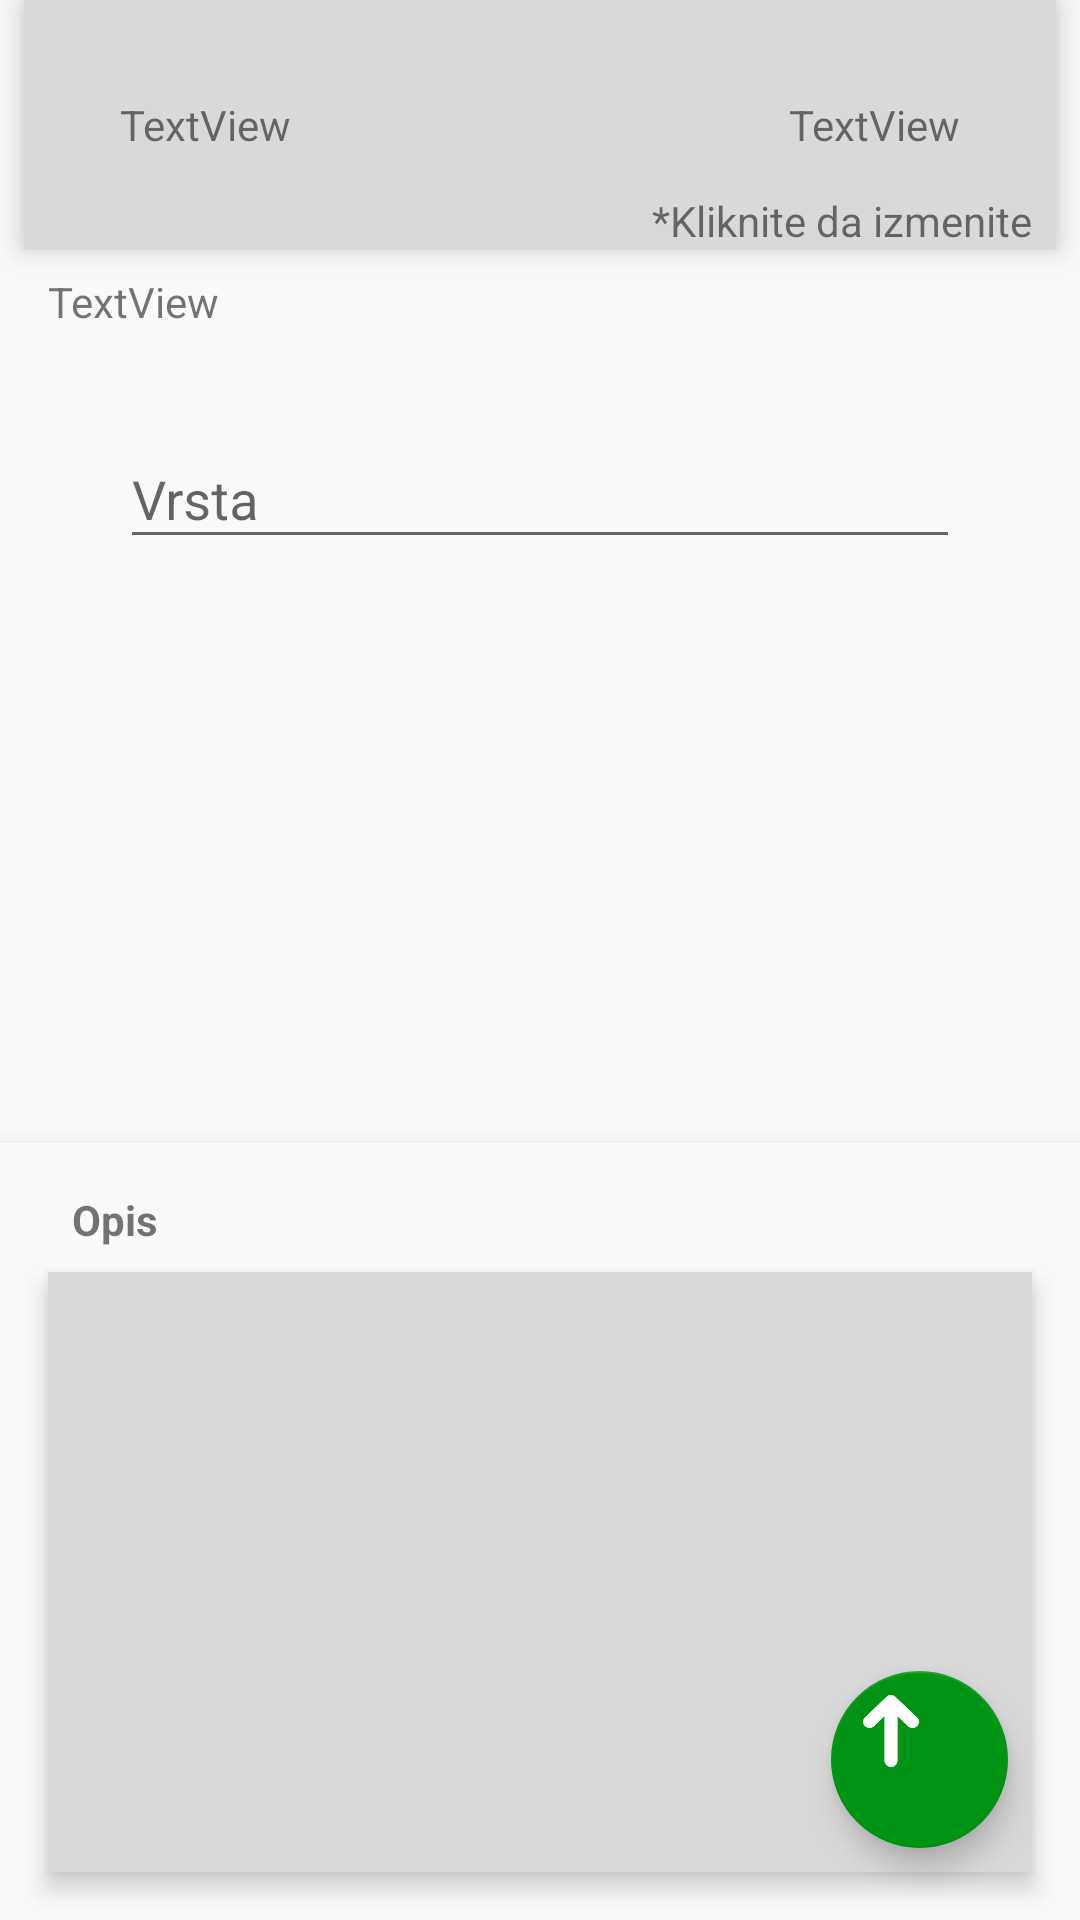

Screen size 1080w x 1920h. Icon name, then its center in pixels as point (x, y):
uparrowfab: point (919, 1759)
